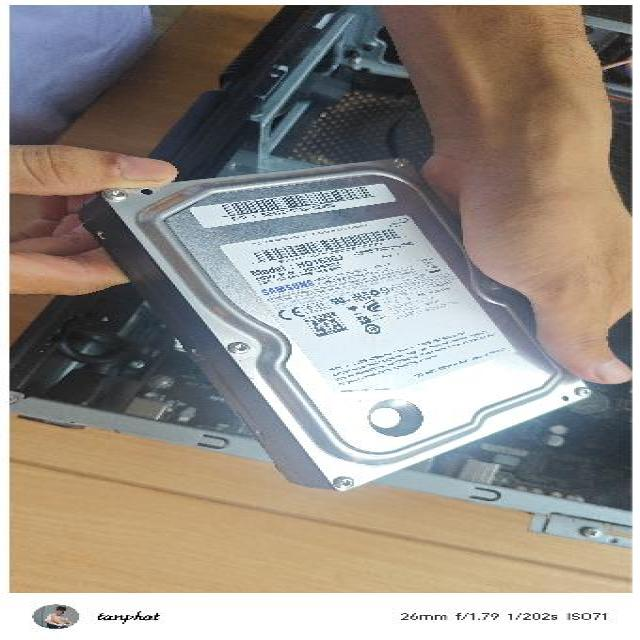DISK: (71, 152, 596, 494)
